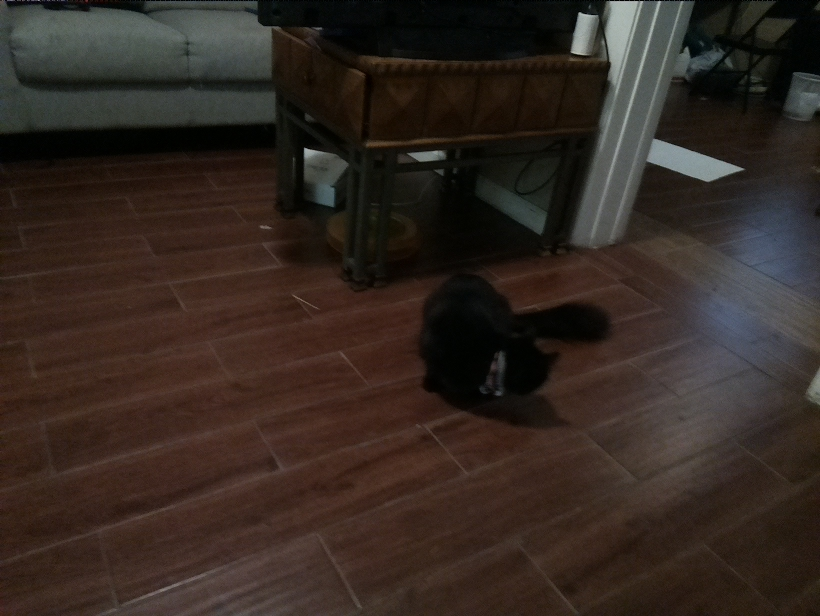cat: (406, 262, 634, 415)
